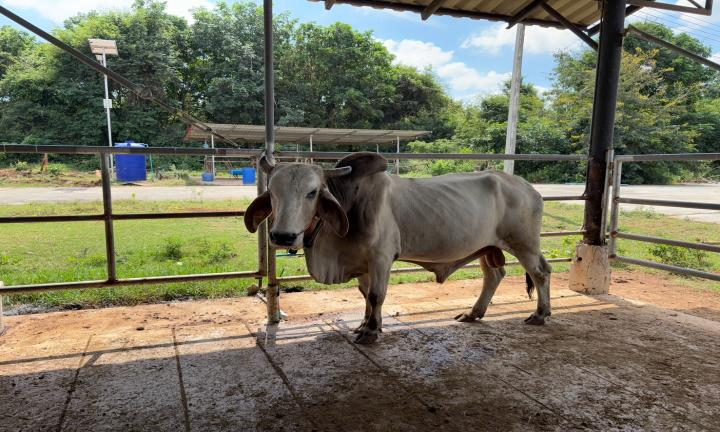Brahman: (245, 152, 551, 343)
